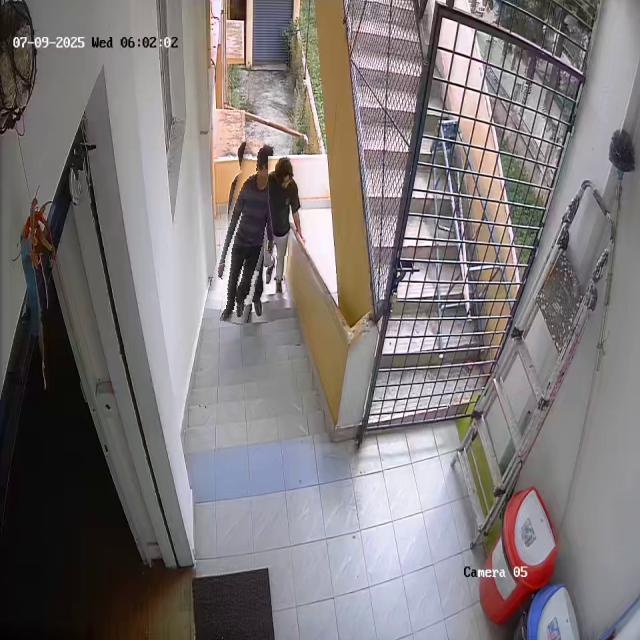person: (214, 139, 279, 326), (266, 156, 298, 298)
